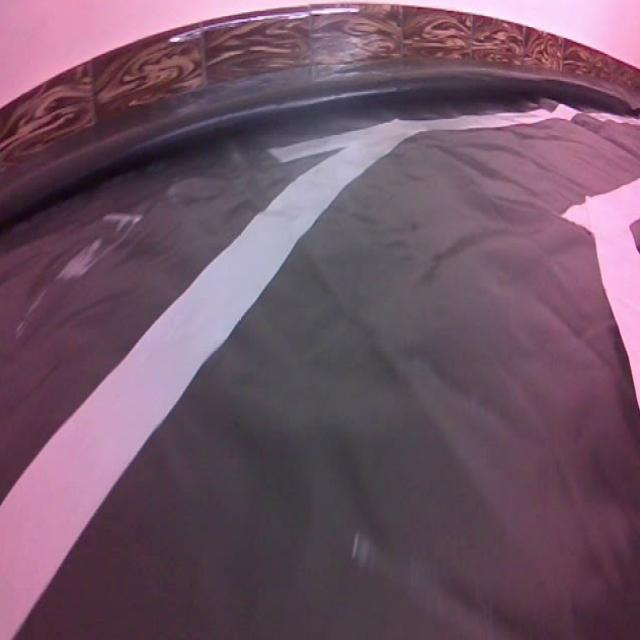LineaCarril: (0, 109, 552, 640), (563, 178, 640, 408)
